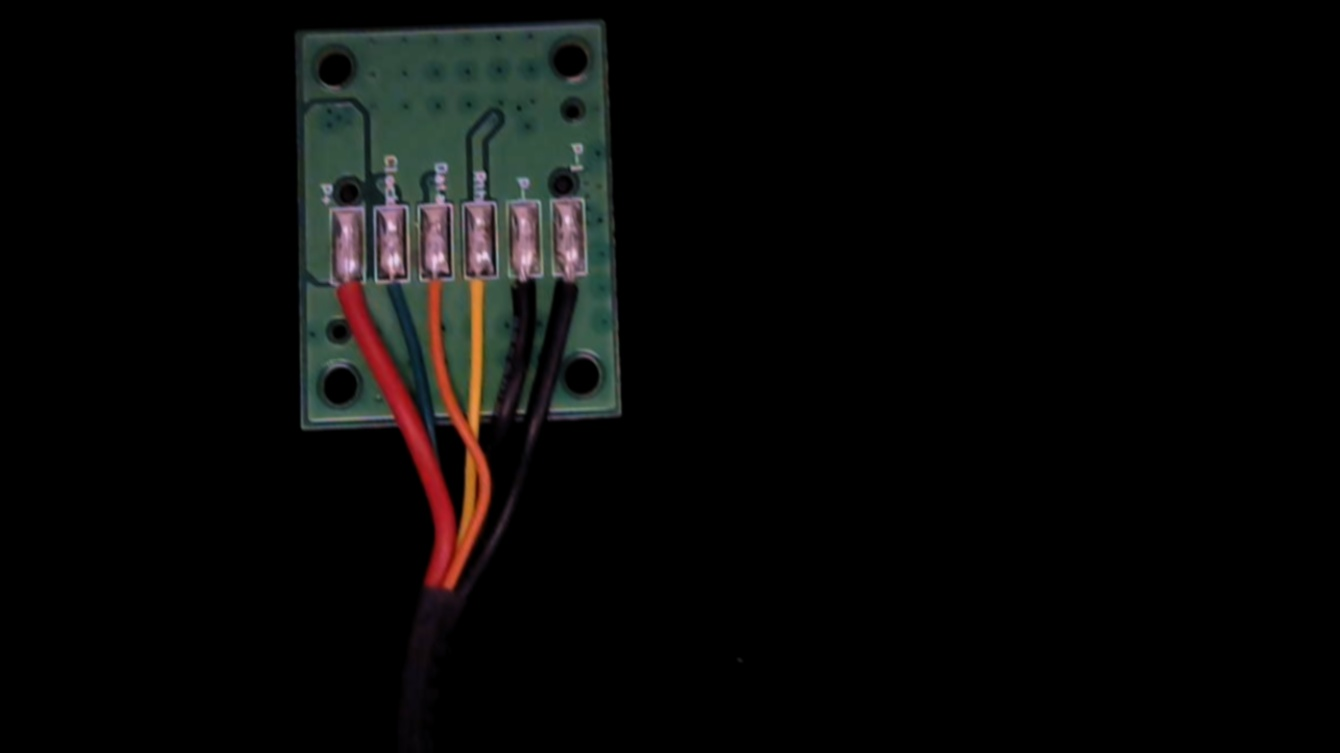Black: (506, 261, 542, 338)
Black1: (551, 259, 589, 341)
Green: (374, 261, 409, 327)
Orange: (415, 260, 453, 338)
Red: (327, 264, 367, 341)
Yellow: (462, 259, 497, 337)
